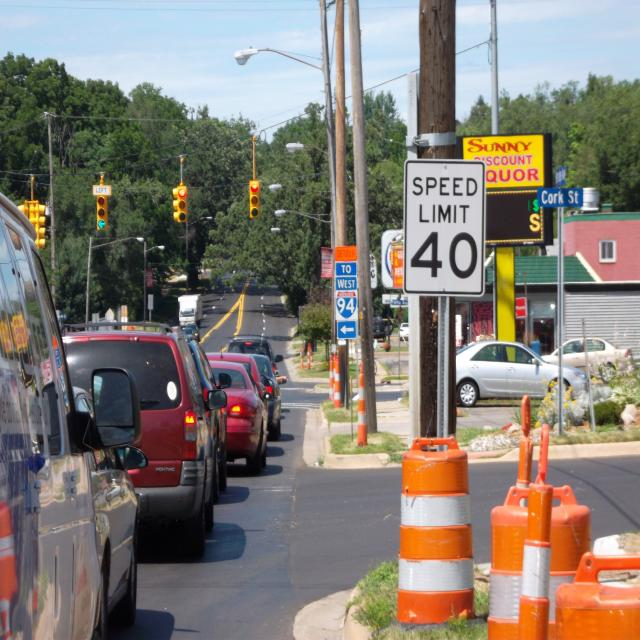regulatory: (404, 158, 484, 294)
